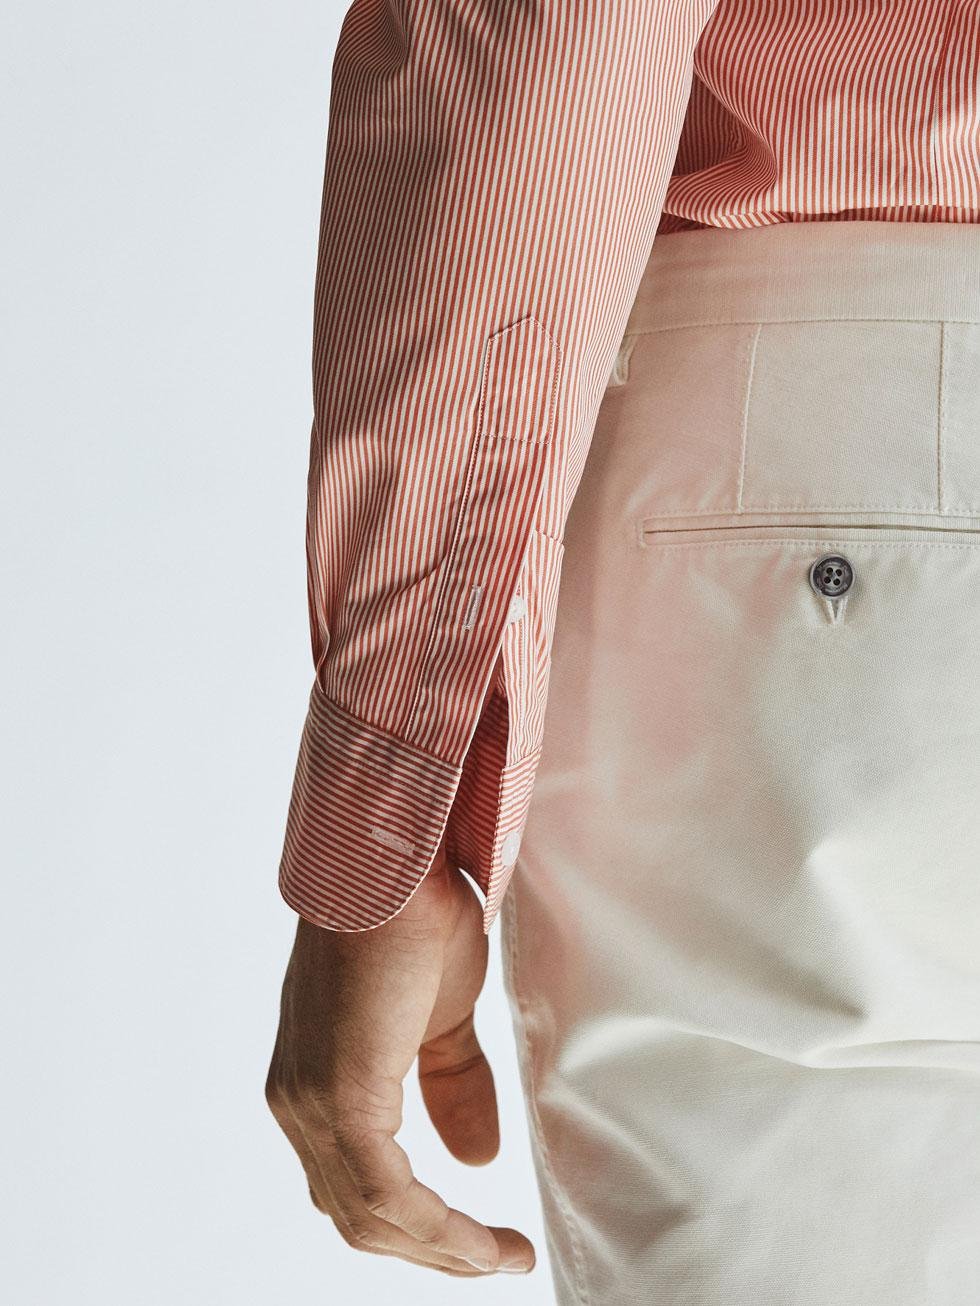teeshirt: (251, 1, 976, 945)
